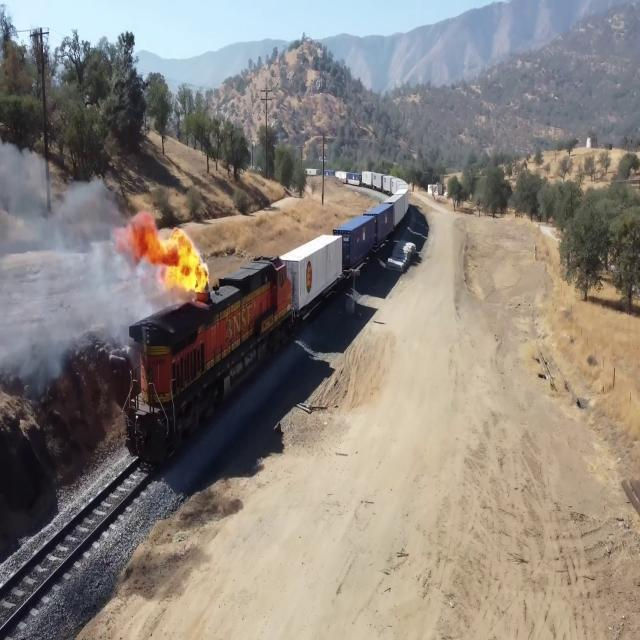Fire: (119, 211, 206, 294)
Smoke: (2, 184, 115, 315)
